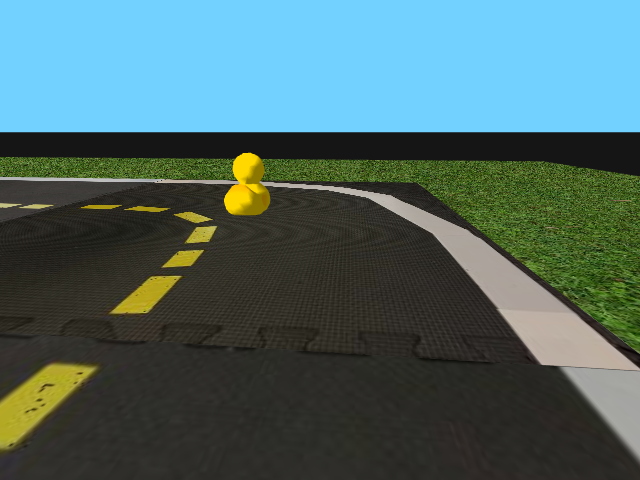Duckie: (223, 151, 273, 218)
